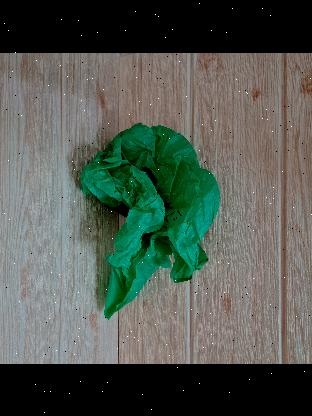Others: (82, 118, 222, 308)
